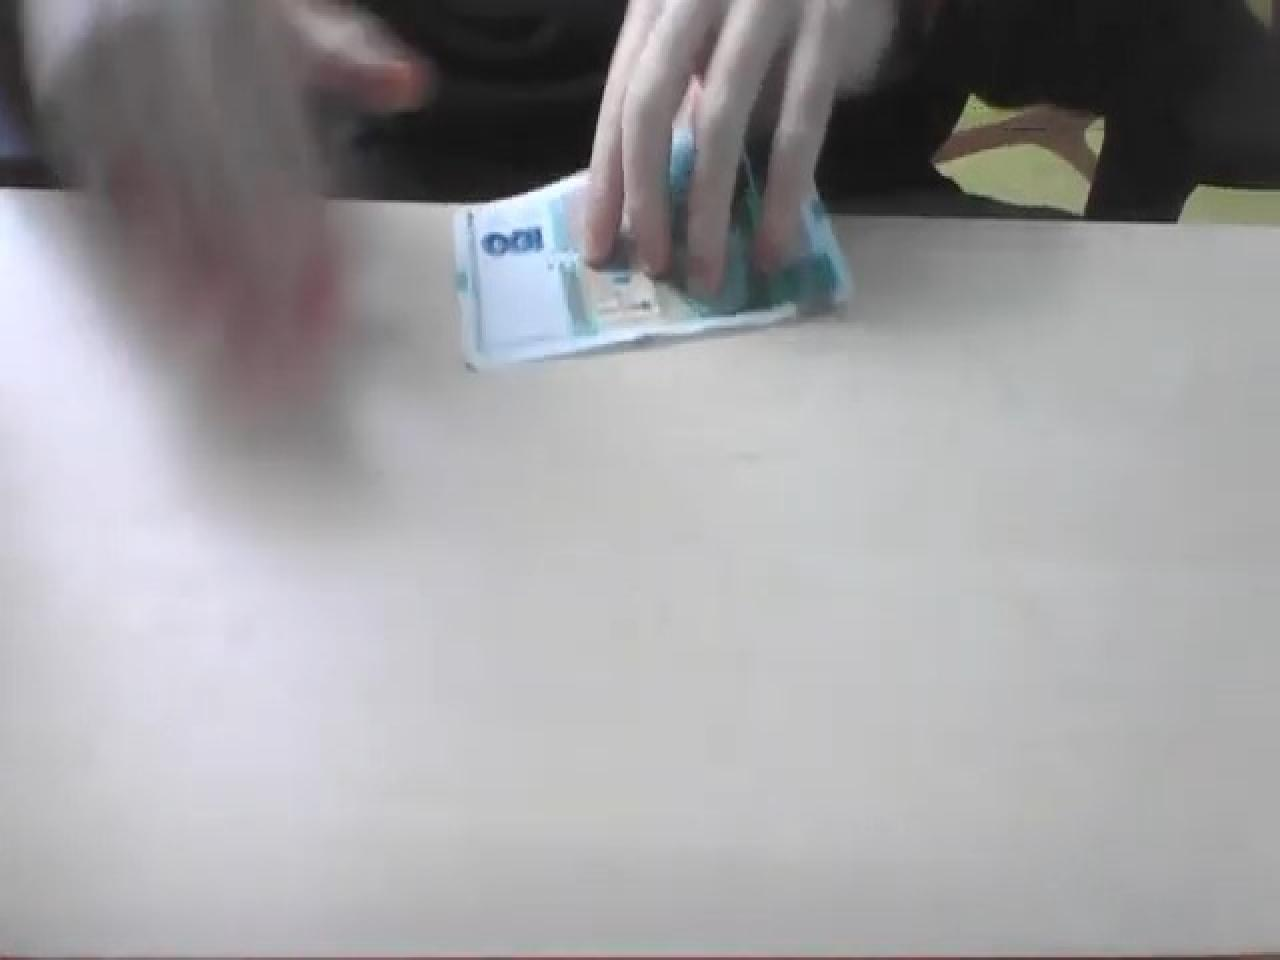100leva: (450, 125, 852, 371), (478, 221, 546, 256)
